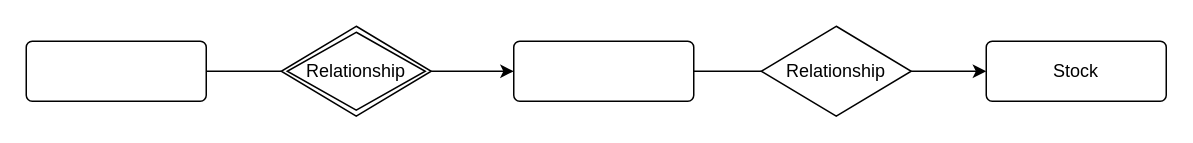
The diagram is 1193 pixels wide and 143 high, and some of its shapes have lost their labels. Each missing label, with the box of its shape:
Brand: (25, 40, 206, 101)
Model: (512, 40, 694, 101)
